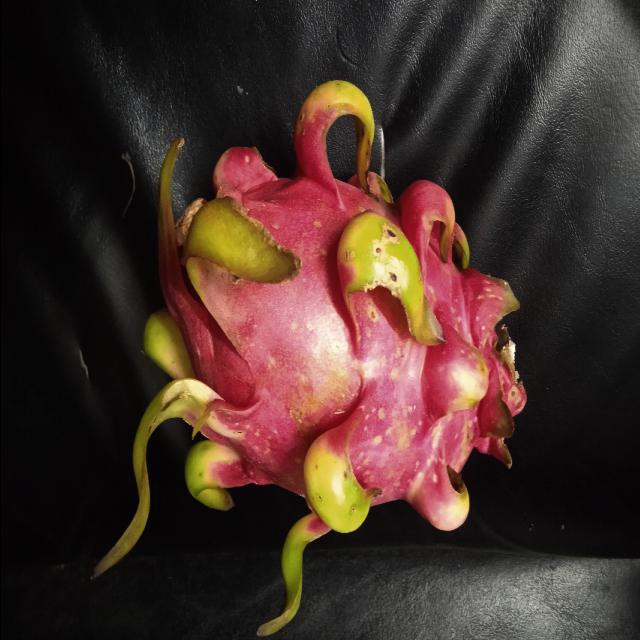do: (89, 80, 534, 639)
